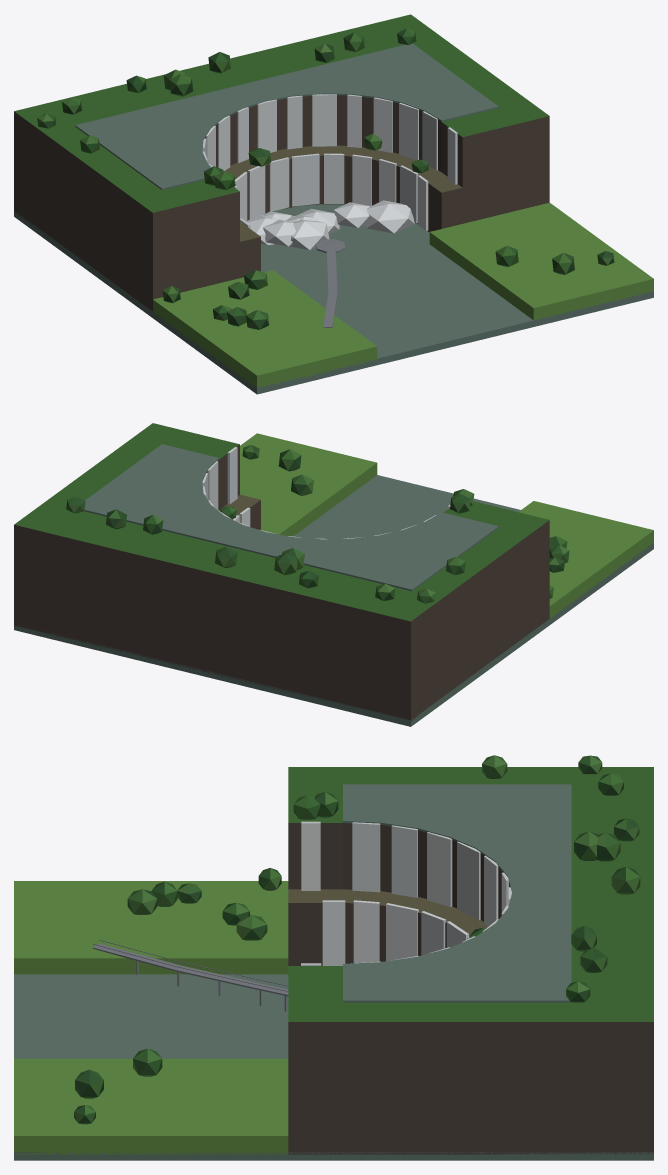
File: cataratas_do_iguacu.glb
3 views of the same model, one above another, from view 1: azimuth 30°, elevation 25°; view 2: azimuth 150°, elevation 25°; view 3: azimuth 270°, elevation 25° (orthographic). The views are drawn at different scales.
Parts seen in each view (by area): view 1: cataratas_do_iguacu; view 2: cataratas_do_iguacu; view 3: cataratas_do_iguacu.
Boxes of the visible parts, left/top/right/bottom form: cataratas_do_iguacu: left=14, top=14, right=653, bottom=394; cataratas_do_iguacu: left=14, top=423, right=653, bottom=726; cataratas_do_iguacu: left=14, top=755, right=653, bottom=1160.
Bounding box in the file's own units: 132 × 41.06 × 140.
